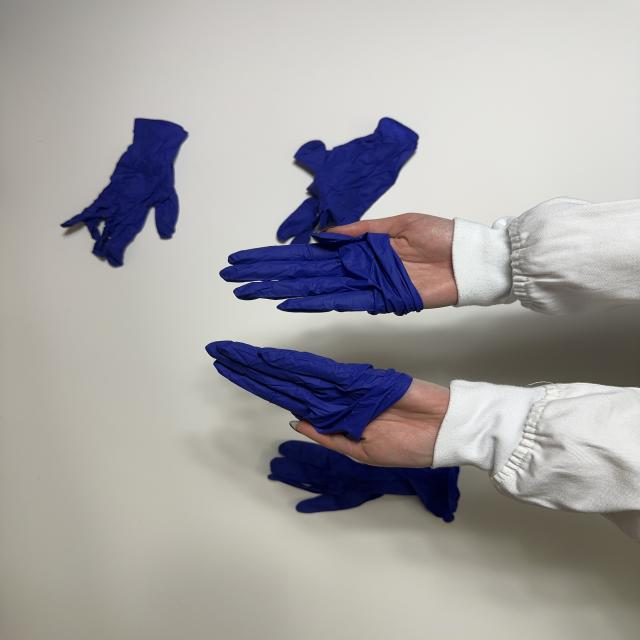glove_partial: (204, 340, 456, 470), (219, 214, 468, 316)
